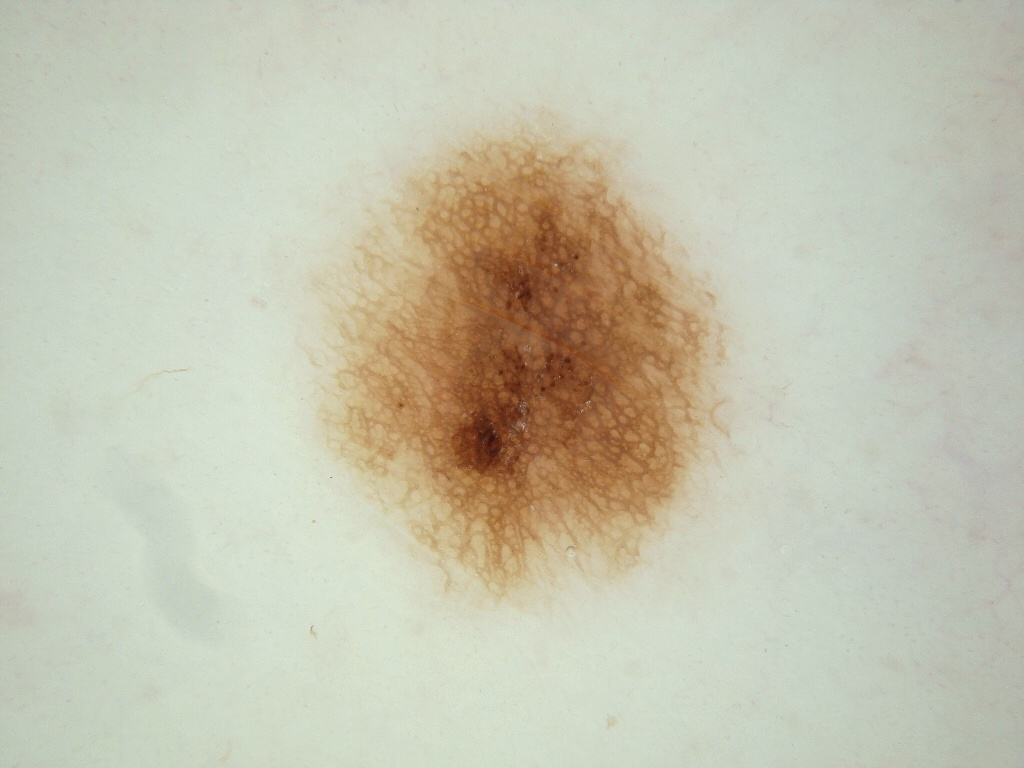Detected Lesion: (303, 107, 728, 606)
